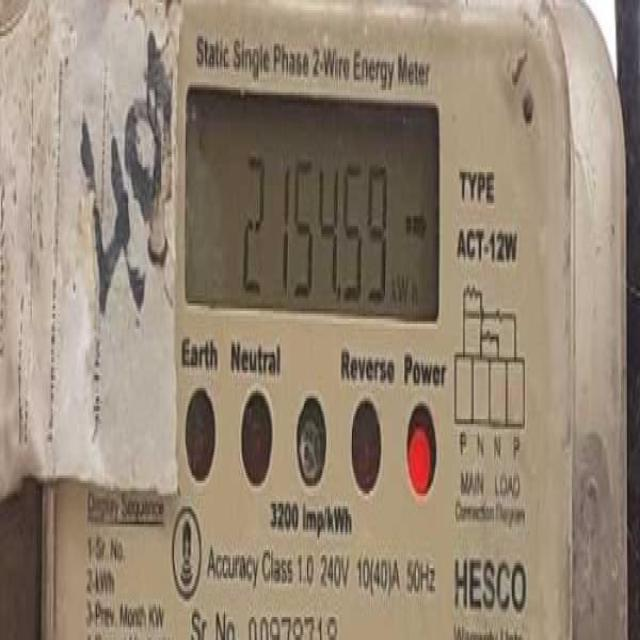1: (269, 141, 295, 310)
2: (236, 149, 267, 305)
4: (315, 146, 340, 310)
5: (342, 149, 368, 312), (292, 146, 315, 315)
9: (367, 153, 391, 317)
Digital meter: (185, 93, 438, 320)
point: (335, 279, 344, 304)
